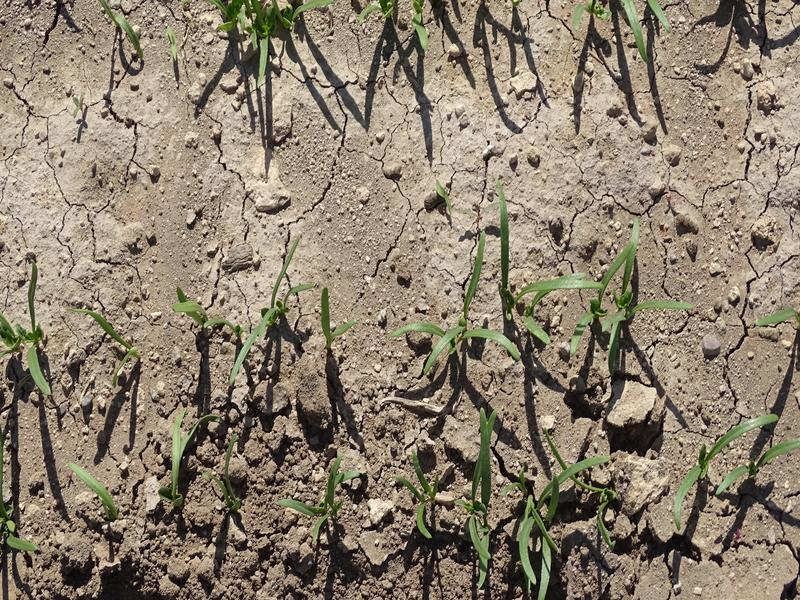Espinaca: (409, 224, 664, 365), (394, 435, 604, 582), (173, 239, 356, 344), (673, 415, 800, 522), (221, 1, 333, 83), (165, 410, 248, 518), (1, 287, 61, 392), (574, 1, 675, 57), (79, 303, 144, 370), (295, 465, 346, 535), (64, 459, 116, 522), (367, 1, 436, 48)
